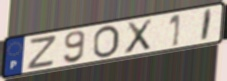1: (167, 13, 182, 48)
9: (63, 30, 87, 65)
I: (199, 7, 214, 43)
O: (92, 24, 121, 60)
X: (123, 17, 155, 56)
Z: (25, 33, 60, 71)
